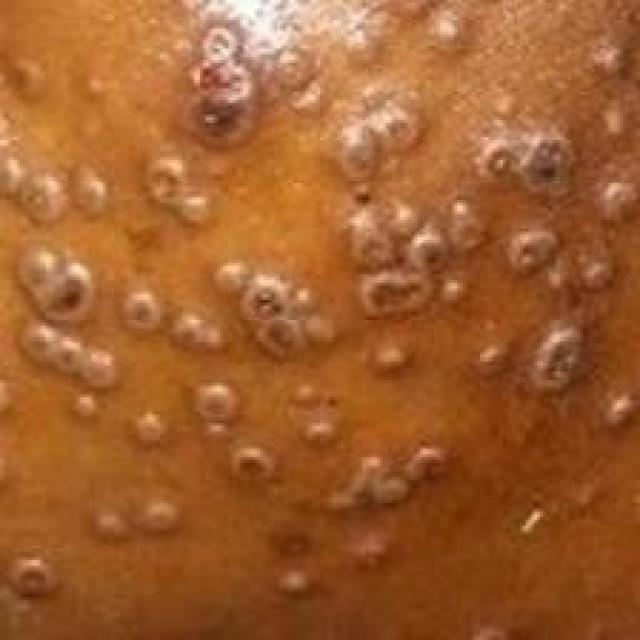monkeypox: (0, 0, 617, 637)
